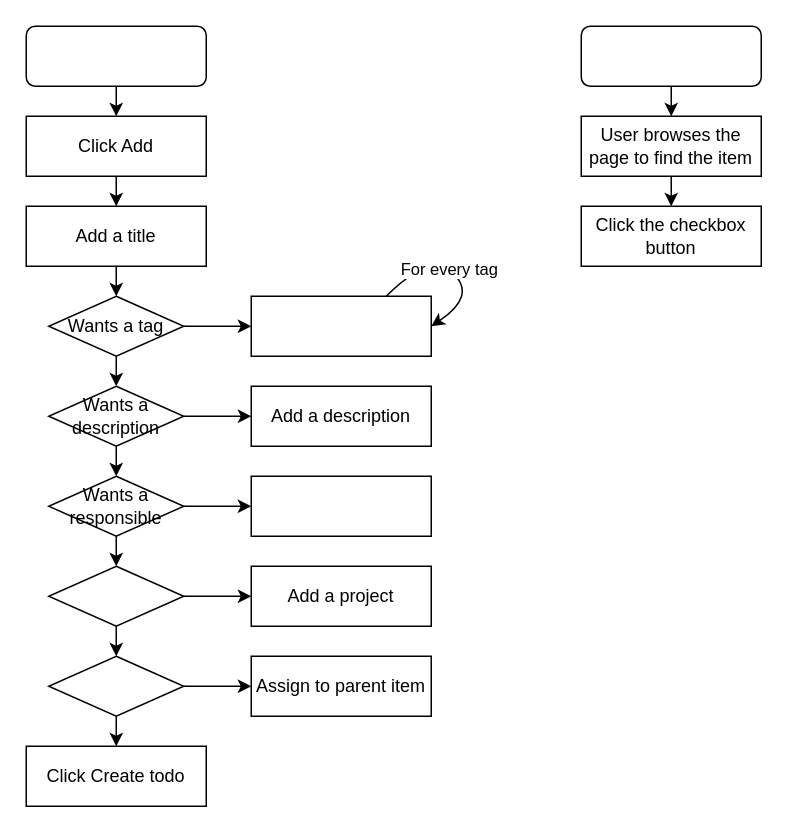
This 788x833 diagram has some shape labels left out. The shapes that lost their labels are listed below. From the top down, each one's centre as x and y in pixels, then its label:
point 115,55: Wants to add a todo item
point 670,55: Wants to mark a todo item as done
point 340,325: Add a tag
point 340,505: Add a responsible
point 115,595: Wants a project
point 115,685: Want it to be a subitem
